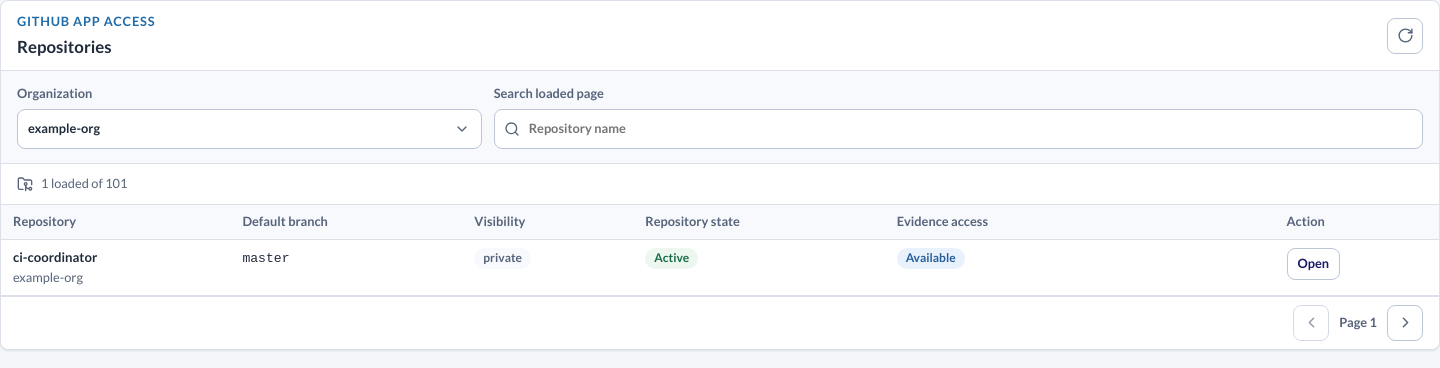
first-page controls use independent continuations: org=false repo=true
Expected: the text "ci-coordinator" is shown, left=13, top=249, right=97, bottom=265
Expected: the button named "Previous" is disabled, left=1293, top=304, right=1329, bottom=340
Type "not-on-this-page" into the search field.
click(958, 129); type("not-on-this-page")  # box left=494, top=109, right=1423, bottom=149
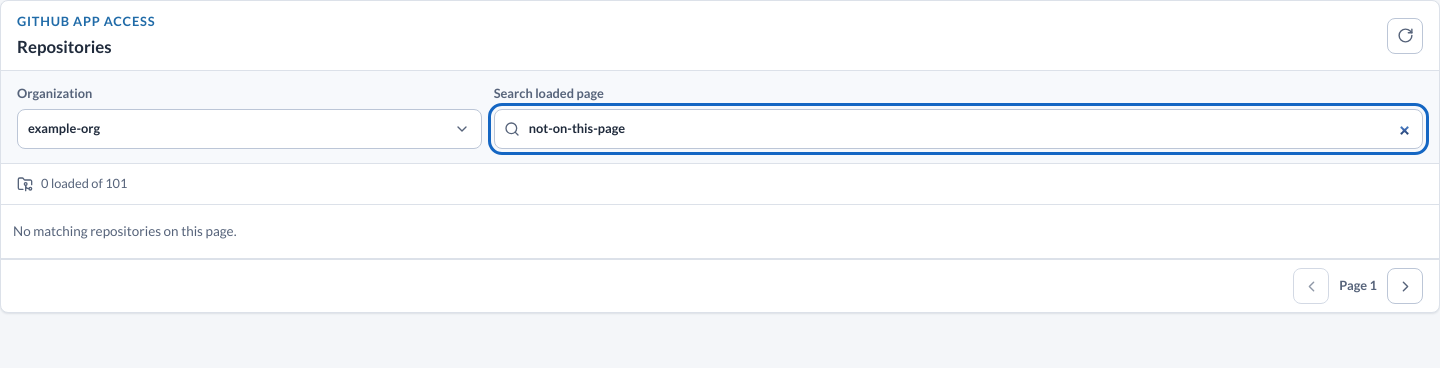
Expected: the button named "Previous repository page" is disabled, left=1293, top=268, right=1329, bottom=304
Expected: the text "No matching repositories on this page." is shown, left=1, top=205, right=1439, bottom=259
